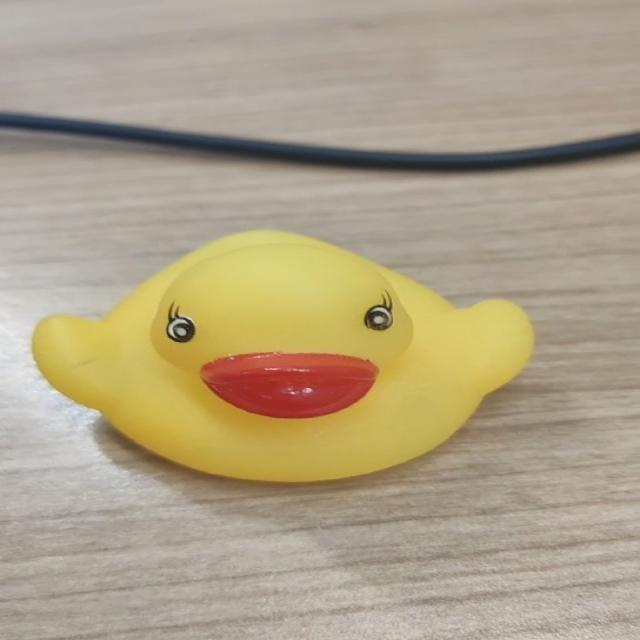rubber-duck: (32, 229, 531, 480)
